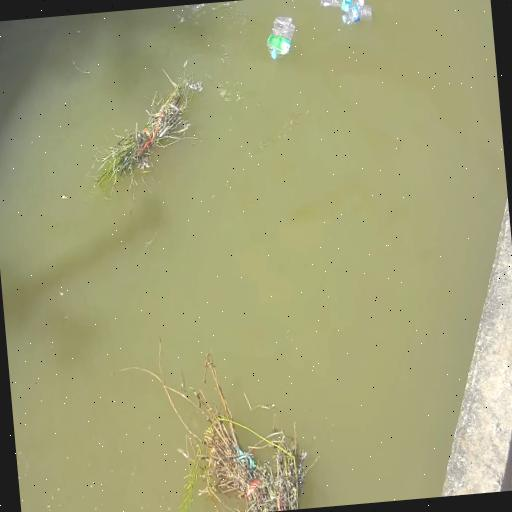plastic: (267, 17, 294, 59), (343, 5, 372, 24), (320, 0, 359, 12)
twig: (122, 340, 307, 512), (96, 71, 202, 190)
